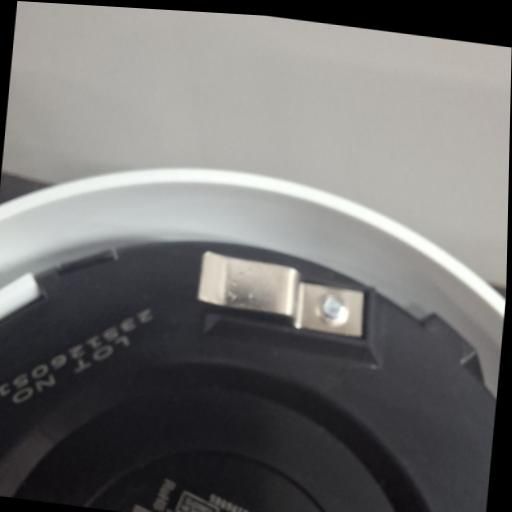yaysiz: (192, 247, 375, 340)
